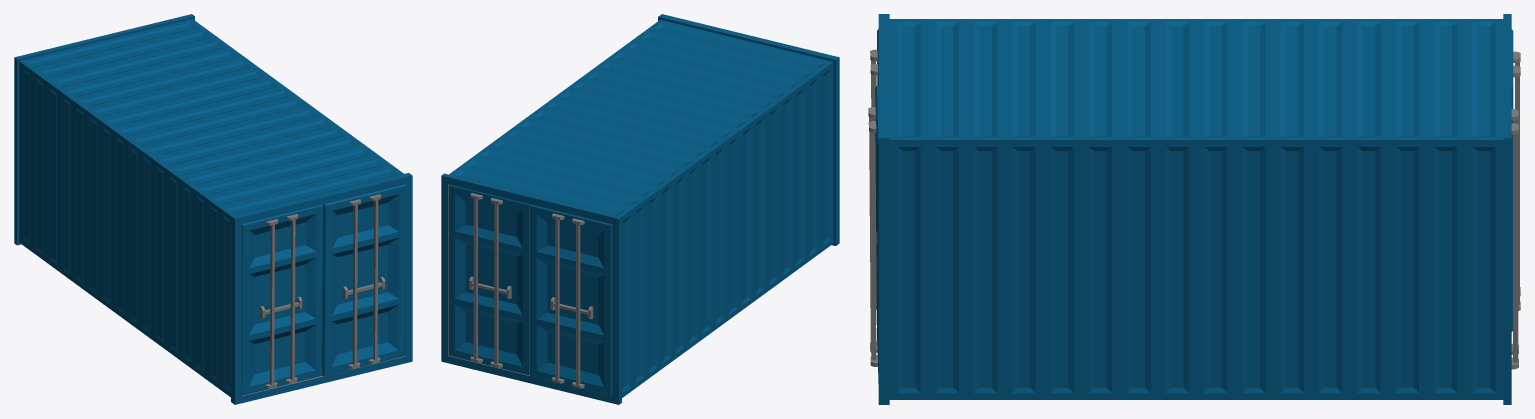
Rendered from model_cargo_container_blue.fbx.
3 views of the same model, side by side, from view 1: azimuth 30°, elevation 25°; view 2: azimuth 150°, elevation 25°; view 3: azimuth 270°, elevation 25° (orthographic). The views are drawn at different scales.
Parts seen in each view (by area): view 1: model_cargo_container_blue, model_cargo_container_door4, model_cargo_container_door3; view 2: model_cargo_container_blue, model_cargo_container_door2, model_cargo_container_door1; view 3: model_cargo_container_blue, model_cargo_container_door4, model_cargo_container_door1, model_cargo_container_door2, model_cargo_container_door3.
Part boxes in pixels (<box>): model_cargo_container_blue: <box>14,14,412,404</box>; model_cargo_container_door4: <box>322,184,405,376</box>; model_cargo_container_door3: <box>241,204,323,395</box>; model_cargo_container_blue: <box>441,14,839,404</box>; model_cargo_container_door2: <box>530,204,612,396</box>; model_cargo_container_door1: <box>448,184,529,375</box>; model_cargo_container_blue: <box>878,14,1511,404</box>; model_cargo_container_door4: <box>868,86,878,383</box>; model_cargo_container_door1: <box>1511,109,1518,369</box>; model_cargo_container_door2: <box>1511,29,1520,331</box>; model_cargo_container_door3: <box>870,29,878,309</box>.
Bounding box in the file's own units: 395 × 395 × 876.
1 material, 1 textured.
